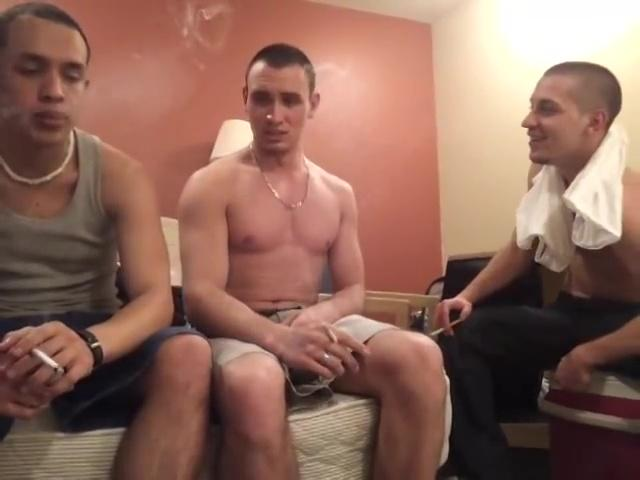cigarette: (28, 346, 67, 375), (430, 316, 464, 336), (321, 322, 342, 345)
